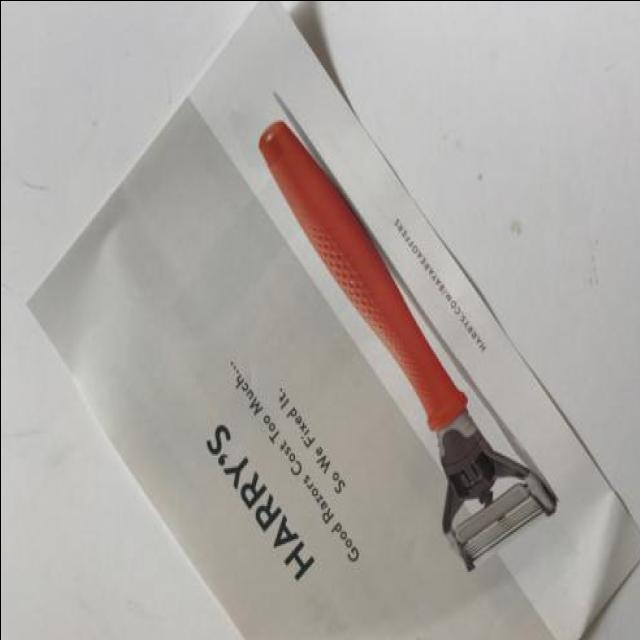kertas: (23, 0, 640, 640)
